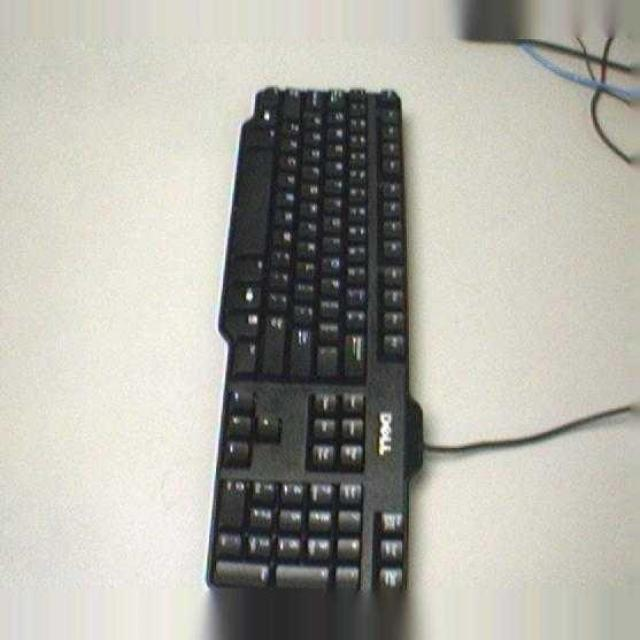keyboard: (198, 77, 416, 609)
